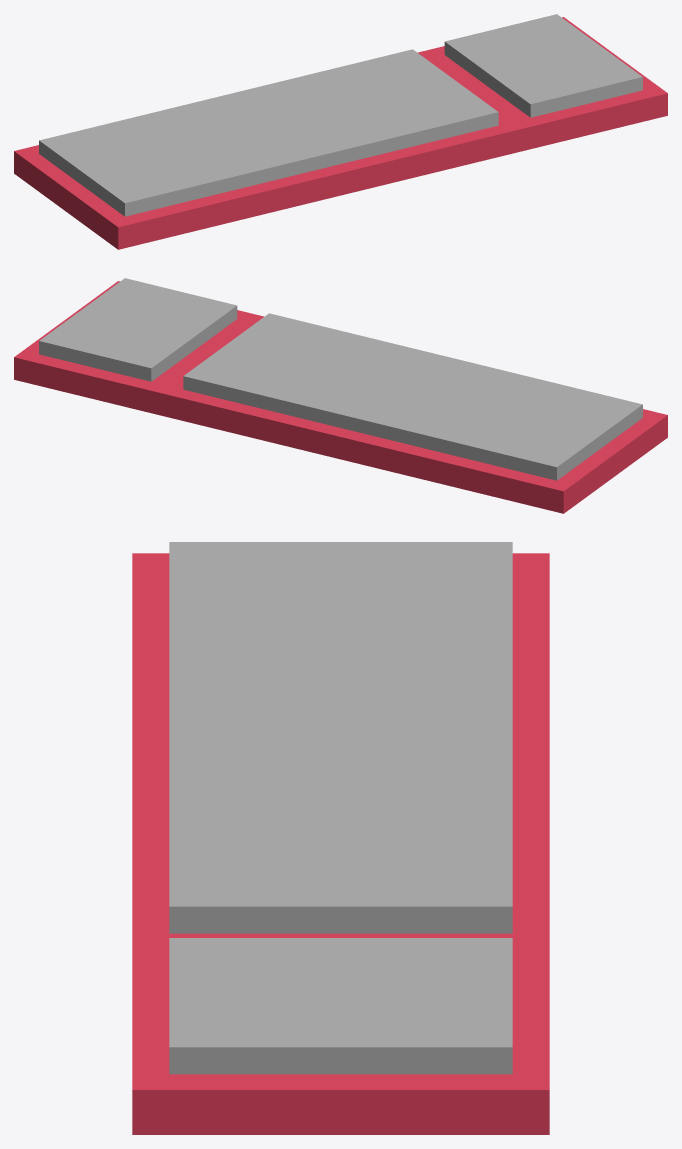
Rendered from Itr_Obj_Keyboard_03.FBX.
The picture shows the model from 3 angles, top to bottom: view 1: azimuth 30°, elevation 25°; view 2: azimuth 150°, elevation 25°; view 3: azimuth 270°, elevation 25°; orthographic projection. The views are drawn at different scales.
Visible parts, largest first — view 1: Itr_Obj_Keyboard_03; view 2: Itr_Obj_Keyboard_03; view 3: Itr_Obj_Keyboard_03.
Boxes of the visible parts, x1,y1,x2,y2 form: Itr_Obj_Keyboard_03: (14,14,667,249); Itr_Obj_Keyboard_03: (14,278,667,513); Itr_Obj_Keyboard_03: (132,542,549,1134).
Size of the model in its own units: 29.34 by 1.83 by 9.64.
